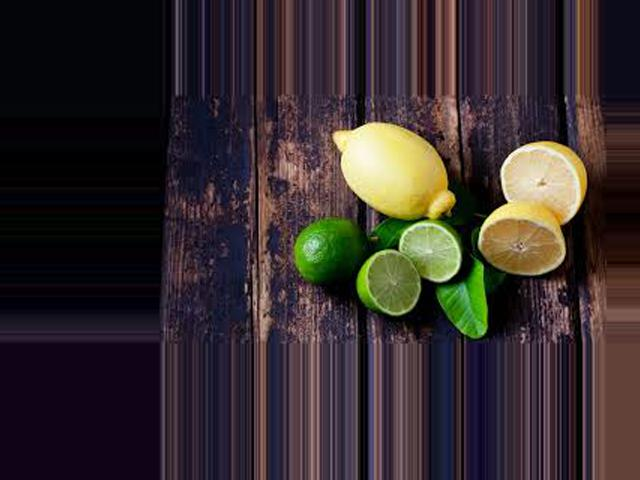lemon: (326, 117, 458, 228)
